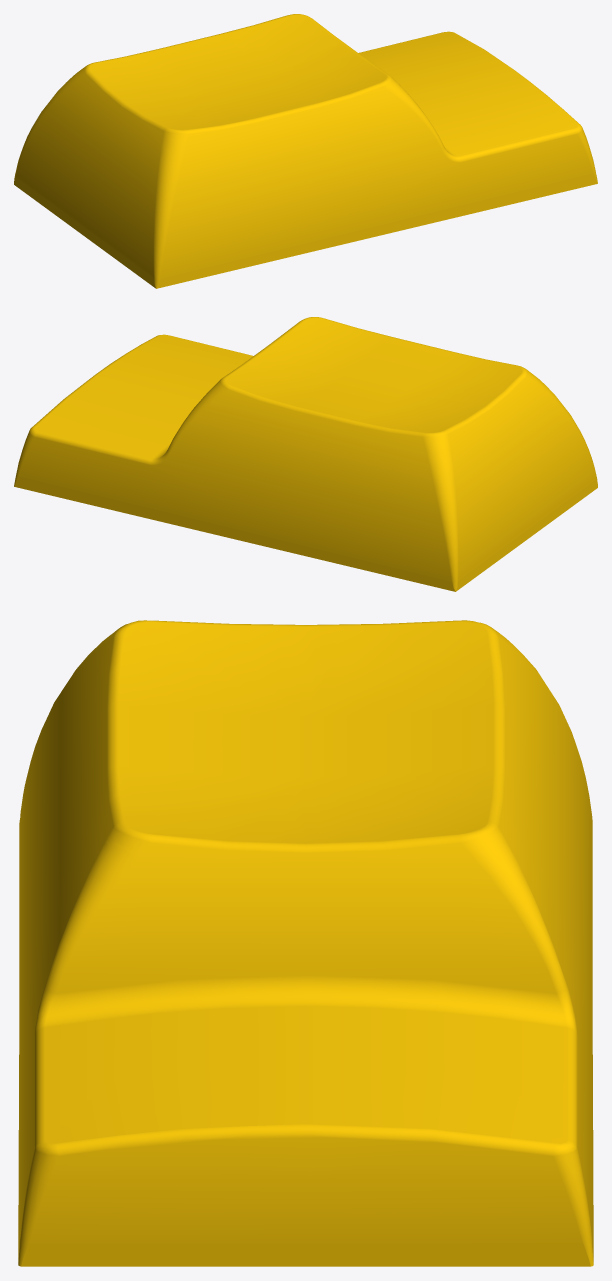
File: 1_75u_stepped_compressed.glb
3 views of the same model, one above another, from view 1: azimuth 30°, elevation 25°; view 2: azimuth 150°, elevation 25°; view 3: azimuth 270°, elevation 25° (orthographic). The views are drawn at different scales.
Parts seen in each view (by area): view 1: Body77; view 2: Body77; view 3: Body77.
Part boxes in pixels (left/top/right/bottom): Body77: left=14, top=14, right=597, bottom=288; Body77: left=14, top=317, right=597, bottom=591; Body77: left=18, top=620, right=593, bottom=1266.
Size of the model in its own units: 32.48 by 9.04 by 18.3.
